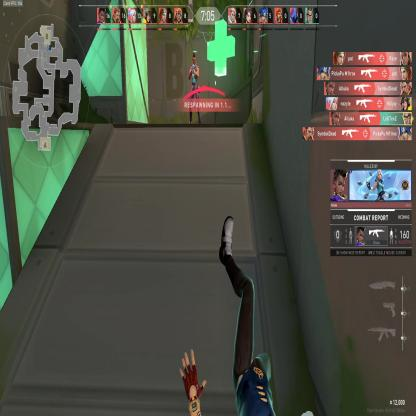enemy: (188, 51, 200, 98)
